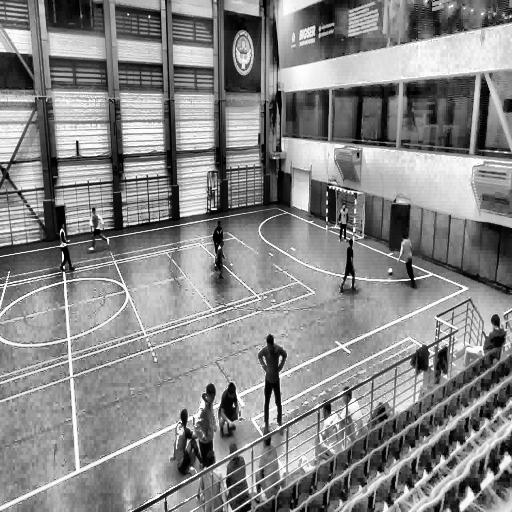ball: (388, 266, 393, 276)
player: (258, 334, 288, 434), (173, 407, 198, 480), (218, 380, 240, 442), (339, 233, 357, 293), (398, 230, 415, 288), (89, 206, 109, 250), (60, 224, 75, 270), (214, 220, 224, 272), (338, 201, 350, 244), (215, 236, 226, 282)
